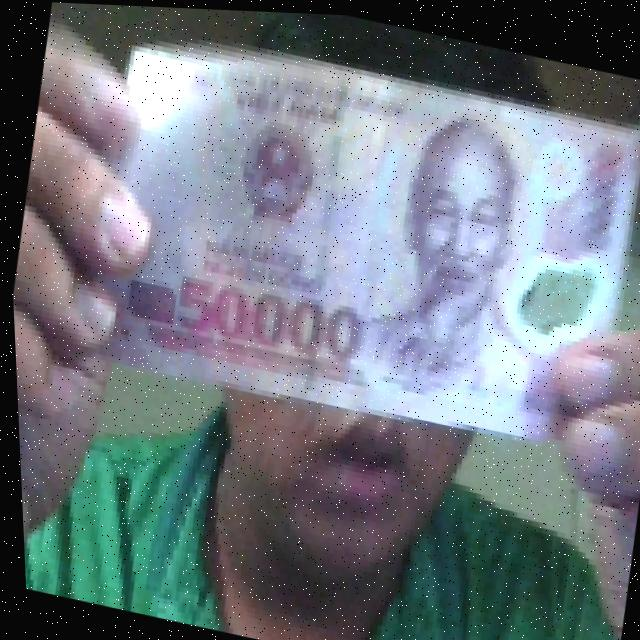50 000 VND: (58, 3, 640, 470)
